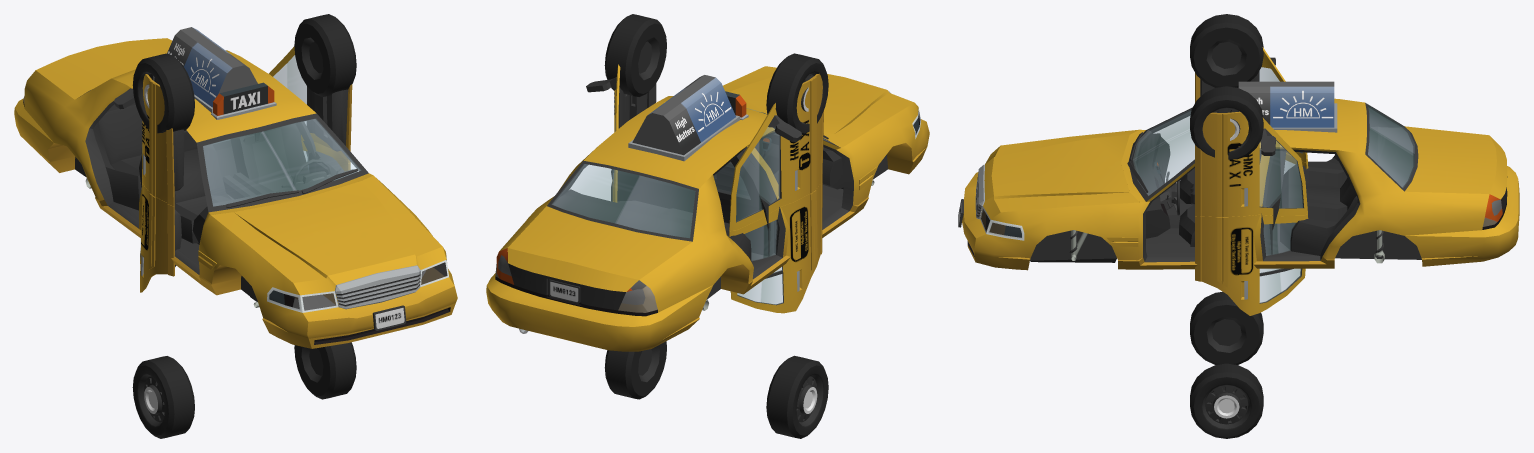
File: carro_taxi_aberto.glb
3 renders of one model, left to right at view 1: azimuth 30°, elevation 25°; view 2: azimuth 150°, elevation 25°; view 3: azimuth 270°, elevation 25°, orthographic. The views are drawn at different scales.
Parts seen in each view (by area): view 1: Taxi_base, Taxi_Hood, T_Wheels_B, T_WheelFL, TDoor_FR, Taxi_trunk, Taxi_Decal, T_WheelFR, TDoor_FL, TDoor_BR, TDoor_BL; view 2: Taxi_base, Taxi_trunk, TDoor_FR, T_Wheels_B, TDoor_BR, Taxi_Decal, Taxi_Hood, T_WheelFL, T_WheelFR, TDoor_FL; view 3: Taxi_base, Taxi_Hood, TDoor_FL, T_Wheels_B, TDoor_BL, Taxi_trunk, T_WheelFR, Taxi_Decal, T_WheelFL, TDoor_FR.
Boxes of the visible parts, x1,y1,x2,y2 form: Taxi_base: [14, 50, 457, 348]; Taxi_Hood: [211, 175, 442, 282]; T_Wheels_B: [132, 342, 356, 438]; T_WheelFL: [294, 14, 356, 97]; TDoor_FR: [114, 74, 184, 206]; Taxi_trunk: [36, 38, 171, 99]; Taxi_Decal: [167, 27, 257, 112]; T_WheelFR: [132, 53, 194, 133]; TDoor_FL: [269, 46, 352, 163]; TDoor_BR: [140, 177, 181, 292]; TDoor_BL: [301, 141, 350, 174]; Taxi_base: [486, 69, 929, 351]; Taxi_trunk: [507, 206, 692, 313]; TDoor_FR: [729, 73, 823, 230]; T_Wheels_B: [604, 341, 828, 438]; TDoor_BR: [729, 182, 822, 313]; Taxi_Decal: [628, 75, 739, 161]; Taxi_Hood: [723, 66, 914, 145]; T_WheelFL: [604, 14, 666, 96]; T_WheelFR: [766, 53, 828, 134]; TDoor_FL: [586, 64, 656, 202]; Taxi_base: [958, 98, 1519, 270]; Taxi_Hood: [991, 129, 1139, 212]; TDoor_FL: [1195, 111, 1307, 216]; T_Wheels_B: [1190, 291, 1263, 438]; TDoor_BL: [1195, 214, 1308, 315]; Taxi_trunk: [1405, 126, 1507, 216]; T_WheelFR: [1190, 14, 1263, 87]; Taxi_Decal: [1238, 81, 1337, 132]; T_WheelFL: [1190, 86, 1263, 159]; TDoor_FR: [1195, 47, 1307, 162].
Bounding box in the file's own units: 2.16 × 3.65 × 5.4.
Materials: 4 (4 with a texture image).
